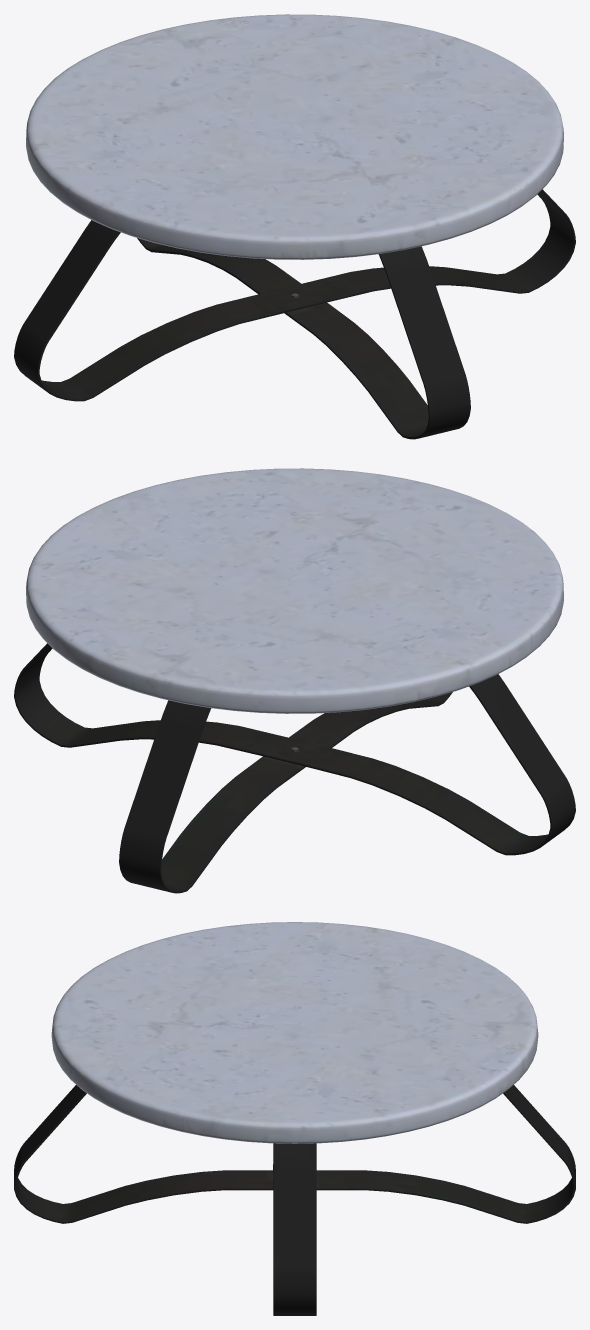
File: coffee_table_round_01.glb
3 views of the same model, one above another, from view 1: azimuth 30°, elevation 25°; view 2: azimuth 150°, elevation 25°; view 3: azimuth 270°, elevation 25° (orthographic). The views are drawn at different scales.
Visible parts, largest first — view 1: coffee_table_round_01; view 2: coffee_table_round_01; view 3: coffee_table_round_01.
Boxes of the visible parts, x1,y1,x2,y2 form: coffee_table_round_01: (14,14,575,439); coffee_table_round_01: (14,468,575,893); coffee_table_round_01: (14,922,575,1315).
Size of the model in its own units: 1.3 by 0.491 by 1.3.
1 material, 1 textured.
